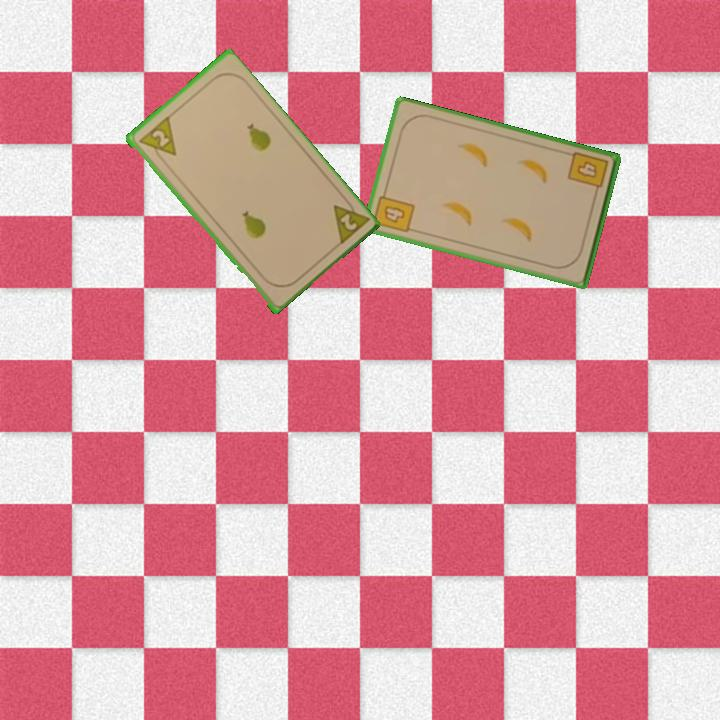2p: (329, 192, 371, 249), (135, 113, 179, 166)
4b: (564, 148, 611, 199), (370, 186, 417, 236)
